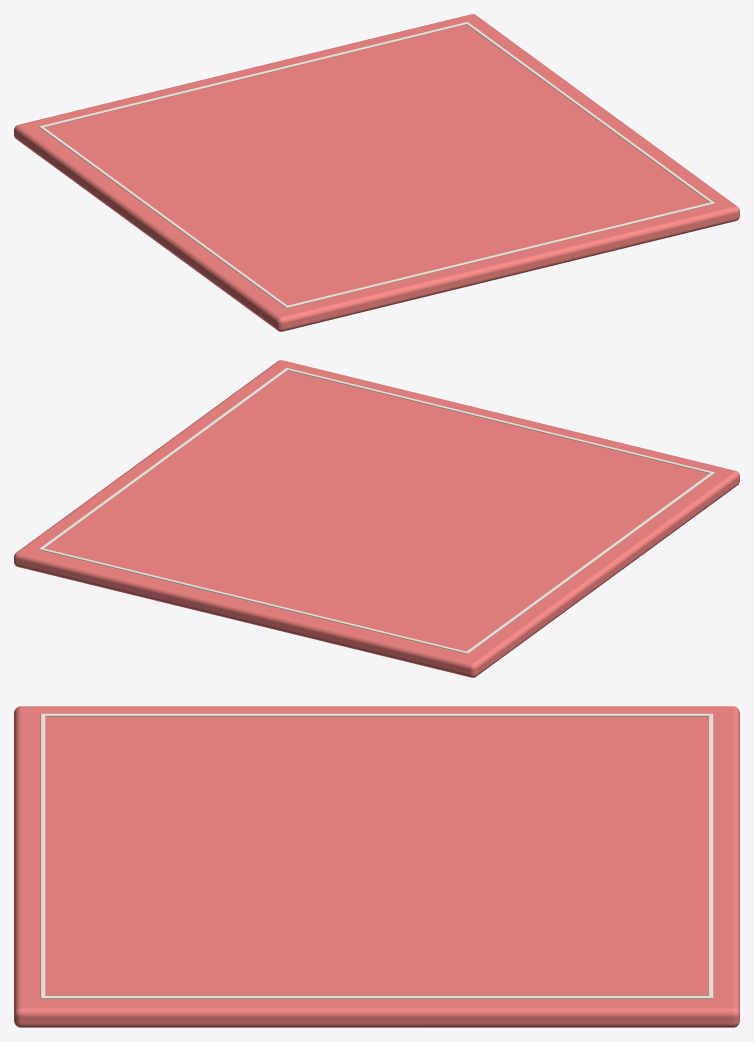
File: party-obstacle-course-party-obstacle-course-safety-mat-98d41847__28950.glb
3 views of the same model, one above another, from view 1: azimuth 30°, elevation 25°; view 2: azimuth 150°, elevation 25°; view 3: azimuth 270°, elevation 25° (orthographic). The views are drawn at different scales.
Parts seen in each view (by area): view 1: party-obstacle-course-safety-mat; view 2: party-obstacle-course-safety-mat; view 3: party-obstacle-course-safety-mat.
Part boxes in pixels (x1=…): party-obstacle-course-safety-mat: x1=14, y1=14, x2=739, y2=331; party-obstacle-course-safety-mat: x1=14, y1=360, x2=739, y2=677; party-obstacle-course-safety-mat: x1=14, y1=706, x2=739, y2=1027.
Size of the model in its own units: 4 by 0.1301 by 4.
